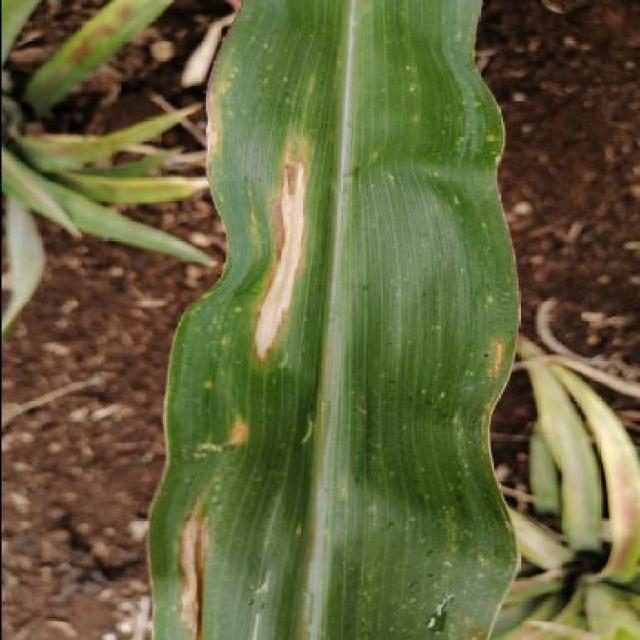Corn_Leaf_Blight: (160, 0, 520, 640)
